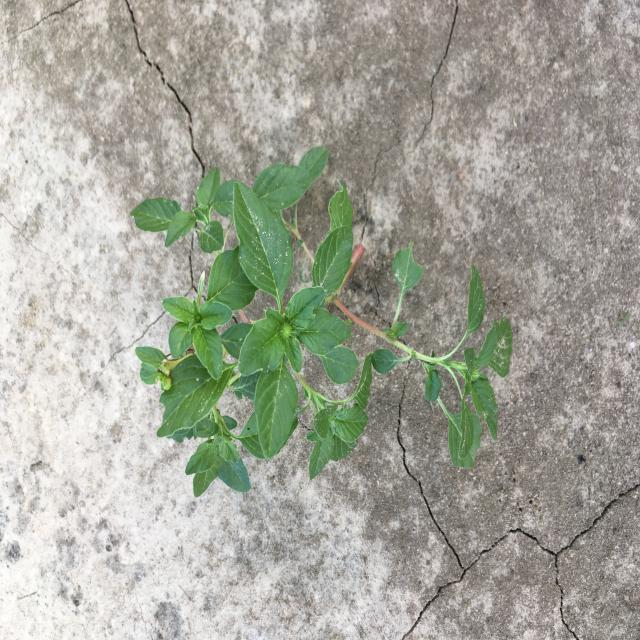PalmerAmaranth: (129, 145, 514, 500)
